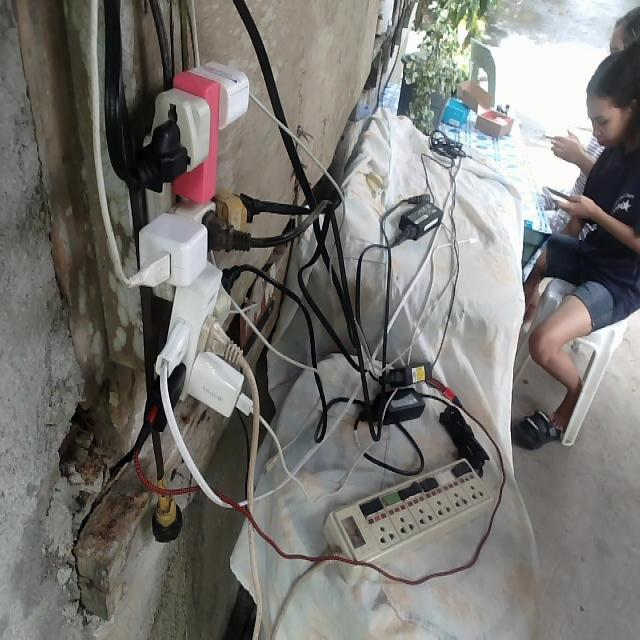-: (114, 57, 265, 431)
